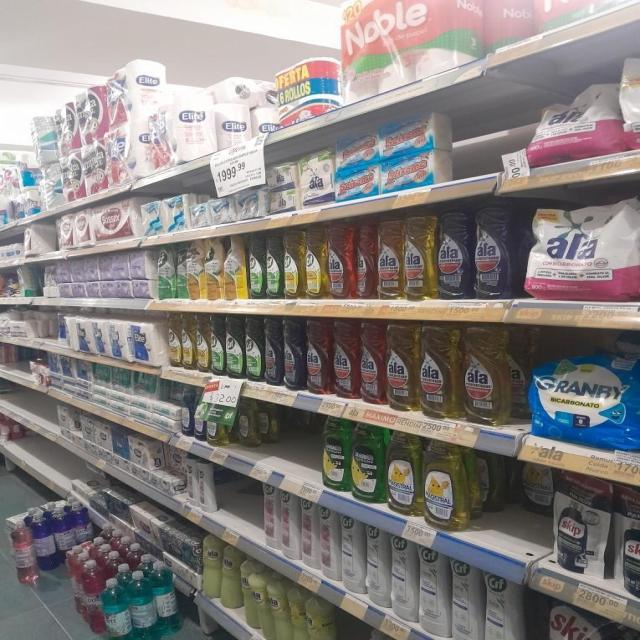ala_conc_amarillo: (462, 324, 512, 425), (419, 324, 461, 419), (386, 322, 418, 412), (404, 215, 436, 301), (378, 219, 403, 301)
ala_conc_azul: (473, 201, 515, 300), (437, 208, 472, 300), (284, 316, 304, 391), (264, 316, 283, 386)
ala_conc_rojo: (359, 320, 385, 406), (332, 318, 358, 400), (306, 317, 331, 396), (328, 221, 353, 300), (354, 220, 376, 300)
ala_crem_amarillo: (244, 558, 268, 636), (269, 574, 289, 640), (202, 534, 221, 601), (222, 541, 240, 610)
cif_conc_bot_amarilla: (305, 227, 327, 300), (284, 229, 304, 300), (195, 315, 209, 373), (168, 314, 181, 368), (182, 314, 194, 370)
cif_conc_botella_verde: (245, 316, 263, 382), (266, 233, 282, 300), (226, 316, 243, 379), (248, 234, 264, 300), (210, 316, 225, 375)
cif_conc_sachet_amarillo: (186, 239, 202, 300)
magistral_con_amarillo: (424, 439, 469, 530), (386, 429, 422, 516), (237, 396, 260, 447), (258, 398, 278, 445)
magistral_con_azul: (194, 390, 206, 440)
